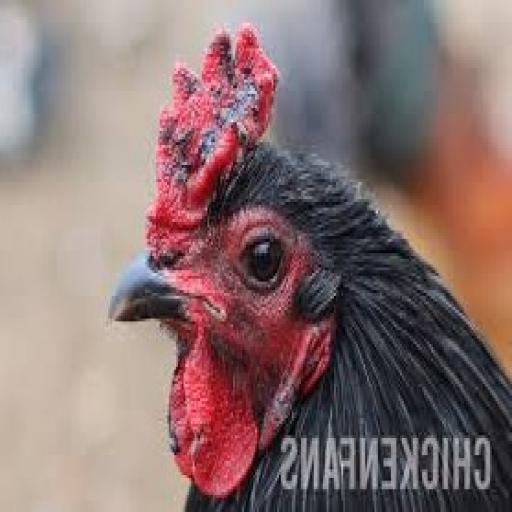disease: (148, 18, 282, 124), (126, 126, 255, 227), (152, 370, 212, 467), (260, 366, 315, 431)
